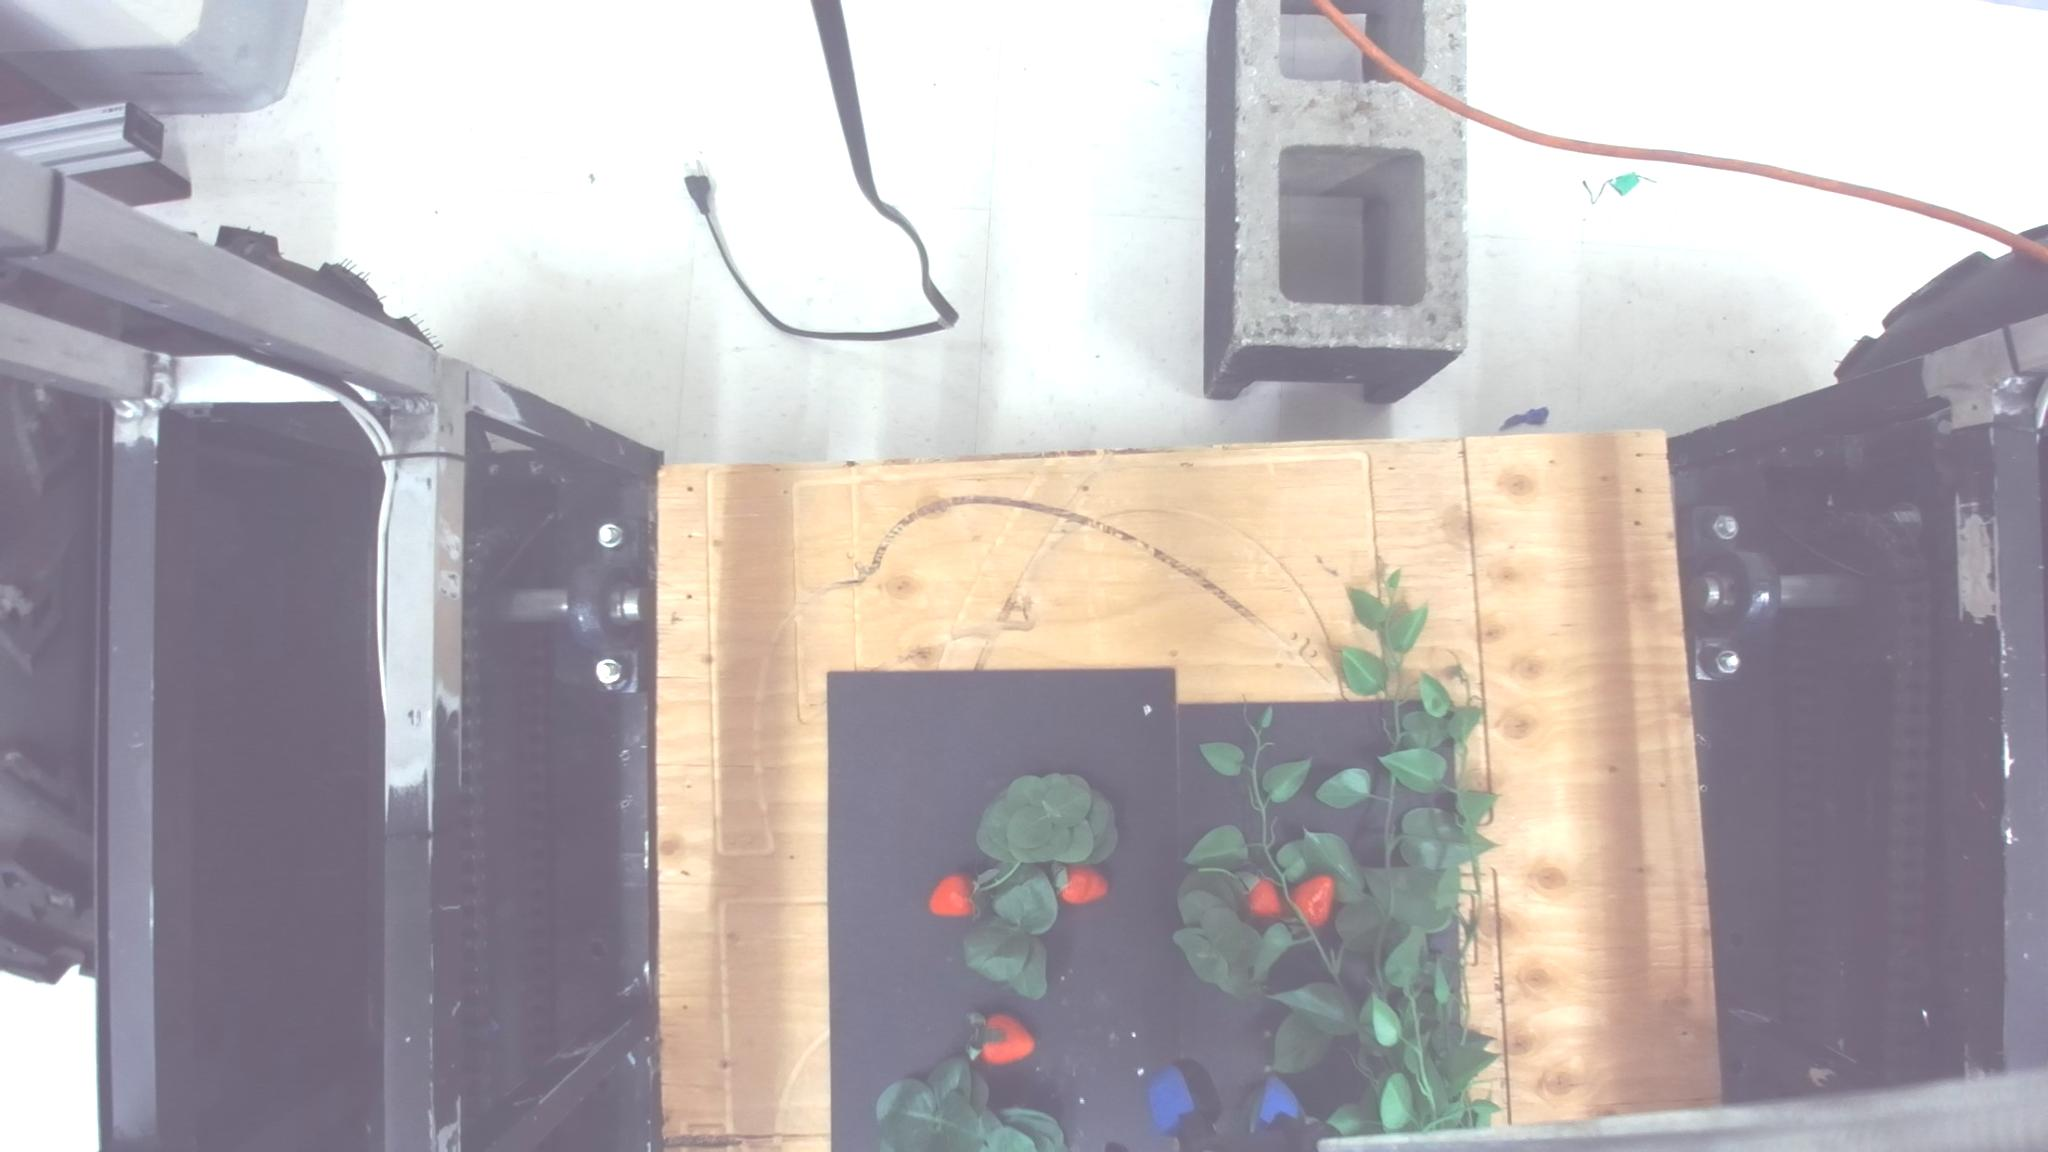mature: (968, 1011, 1034, 1066), (1290, 873, 1335, 928), (927, 873, 976, 919), (1055, 864, 1107, 904), (1243, 876, 1281, 923)
